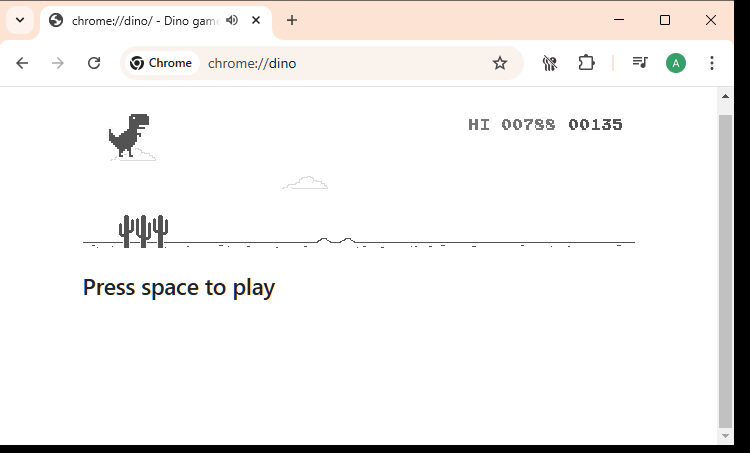cactus: (118, 214, 135, 249), (135, 214, 152, 249), (152, 214, 169, 249)
dino: (108, 113, 150, 158)
